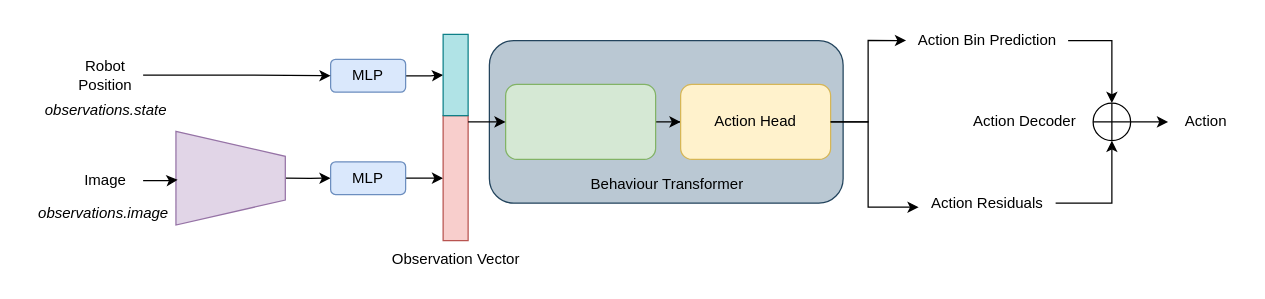
This 1265x299 diagram has some shape labels left out. The shapes that lost their labels are listed below. From the top down, each one's centre as x and y in pixels, then its label:
At (x=580, y=121): "MinGPT".
At (x=230, y=177): "ResNet18".
